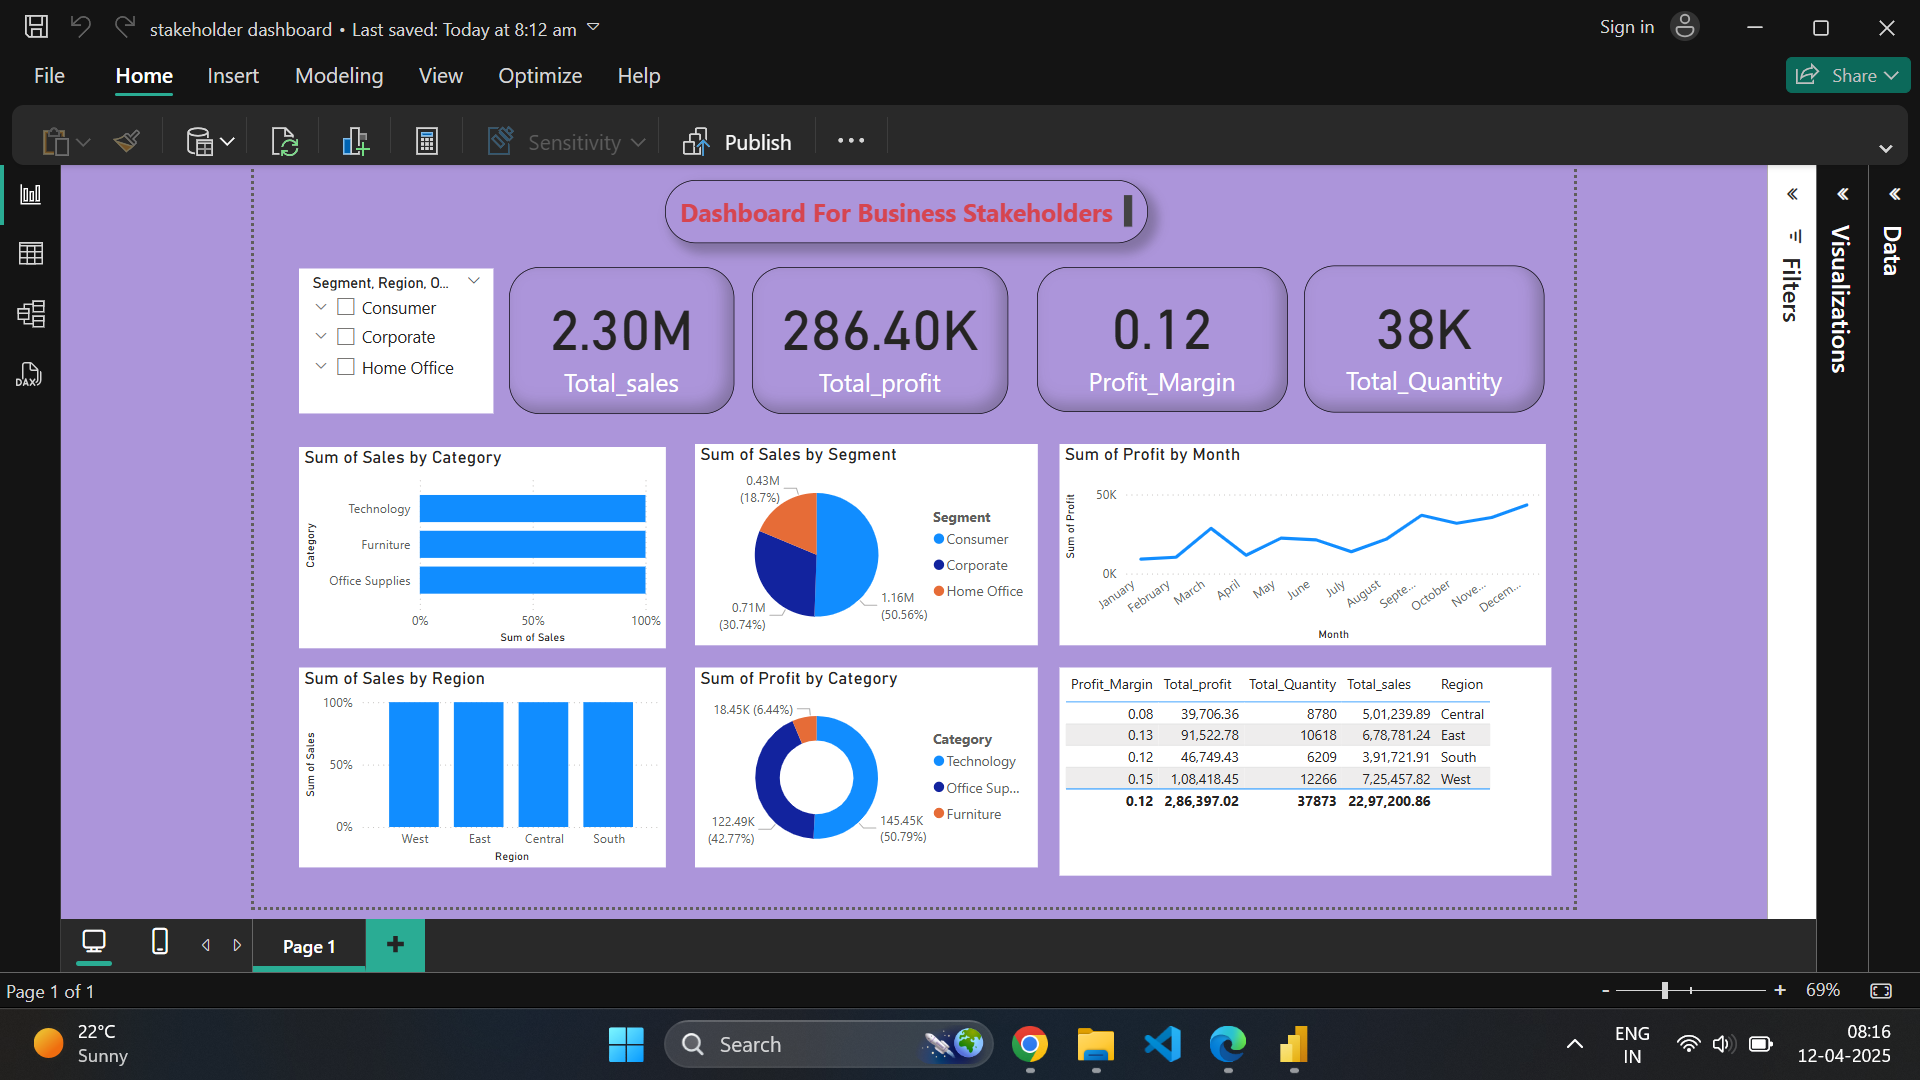

The dashboard page shown, as its layout file describes it:
{"tool":"powerbi","page":{"name":"Page 1","canvas":[1280,720],"ordinal":0},"visuals":[{"type":"card","fields":{"Values":["superstore.Total_profit"]},"box":[483.7,99.4,248.5,142.5],"z":0},{"type":"card","fields":{"Values":["superstore.Profit_Margin"]},"box":[760.3,99.4,243.5,140.8],"z":1000},{"type":"card","fields":{"Values":["superstore.Total_sales"]},"box":[246.8,99.4,218.7,142.5],"z":2000},{"type":"card","fields":{"Values":["superstore.Total_Quantity"]},"box":[1018.7,97.7,233.6,142.5],"z":3000},{"type":"hundredPercentStackedBarChart","fields":{"Y":["Sum(superstore.Sales)"],"Category":["superstore.Category"]},"box":[43.1,273.3,356.1,195.5],"z":4000},{"type":"hundredPercentStackedColumnChart","fields":{"Y":["Sum(superstore.Sales)"],"Category":["superstore.Region"]},"box":[43.1,487,356.1,193.8],"z":5000},{"type":"lineChart","fields":{"Category":["superstore.Order Date.Variation.Date Hierarchy.Month"],"Y":["Sum(superstore.Profit)"]},"box":[781.9,270,472.1,195.5],"z":6000},{"type":"pieChart","fields":{"Y":["Sum(superstore.Sales)"],"Category":["superstore.Segment"]},"box":[427.4,270,333,195.5],"z":7000},{"type":"tableEx","fields":{"Values":["superstore.Profit_Margin","superstore.Total_profit","superstore.Total_Quantity","superstore.Total_sales","superstore.Region"]},"box":[781.9,487,477.1,202.1],"z":7001},{"type":"slicer","fields":{"Values":["superstore.Segment","superstore.Region","superstore.Order Date","superstore.Category"]},"box":[43.1,101,188.8,140.8],"z":7002},{"type":"donutChart","fields":{"Y":["Sum(superstore.Profit)"],"Category":["superstore.Category"]},"box":[427.4,487,333,193.8],"z":7003},{"type":"textbox","box":[399.2,14.9,468.8,61.3],"z":7004}]}

Visuals, with their boxes on the page's 1280x720 design canvas (x1, y1, x2, y2). These are canvas units, not pixel positions in the 1920x1080 screenshot, which may show the page scaled, cropped or inside an application window:
card - superstore.Total_profit: BBox(484, 99, 732, 242)
card - superstore.Profit_Margin: BBox(760, 99, 1004, 240)
card - superstore.Total_sales: BBox(247, 99, 466, 242)
card - superstore.Total_Quantity: BBox(1019, 98, 1252, 240)
hundredPercentStackedBarChart - Sum(superstore.Sales) x superstore.Category: BBox(43, 273, 399, 469)
hundredPercentStackedColumnChart - Sum(superstore.Sales) x superstore.Region: BBox(43, 487, 399, 681)
lineChart - superstore.Order Date.Variation.Date Hierarchy.Month x Sum(superstore.Profit): BBox(782, 270, 1254, 466)
pieChart - Sum(superstore.Sales) x superstore.Segment: BBox(427, 270, 760, 466)
tableEx - superstore.Profit_Margin x superstore.Total_profit: BBox(782, 487, 1259, 689)
slicer - superstore.Segment x superstore.Region: BBox(43, 101, 232, 242)
donutChart - Sum(superstore.Profit) x superstore.Category: BBox(427, 487, 760, 681)
textbox: BBox(399, 15, 868, 76)
